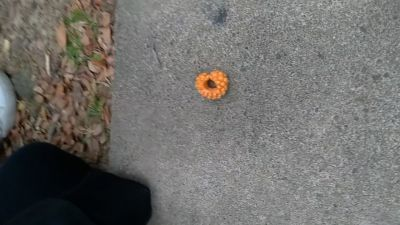eggs: (194, 70, 229, 99)
